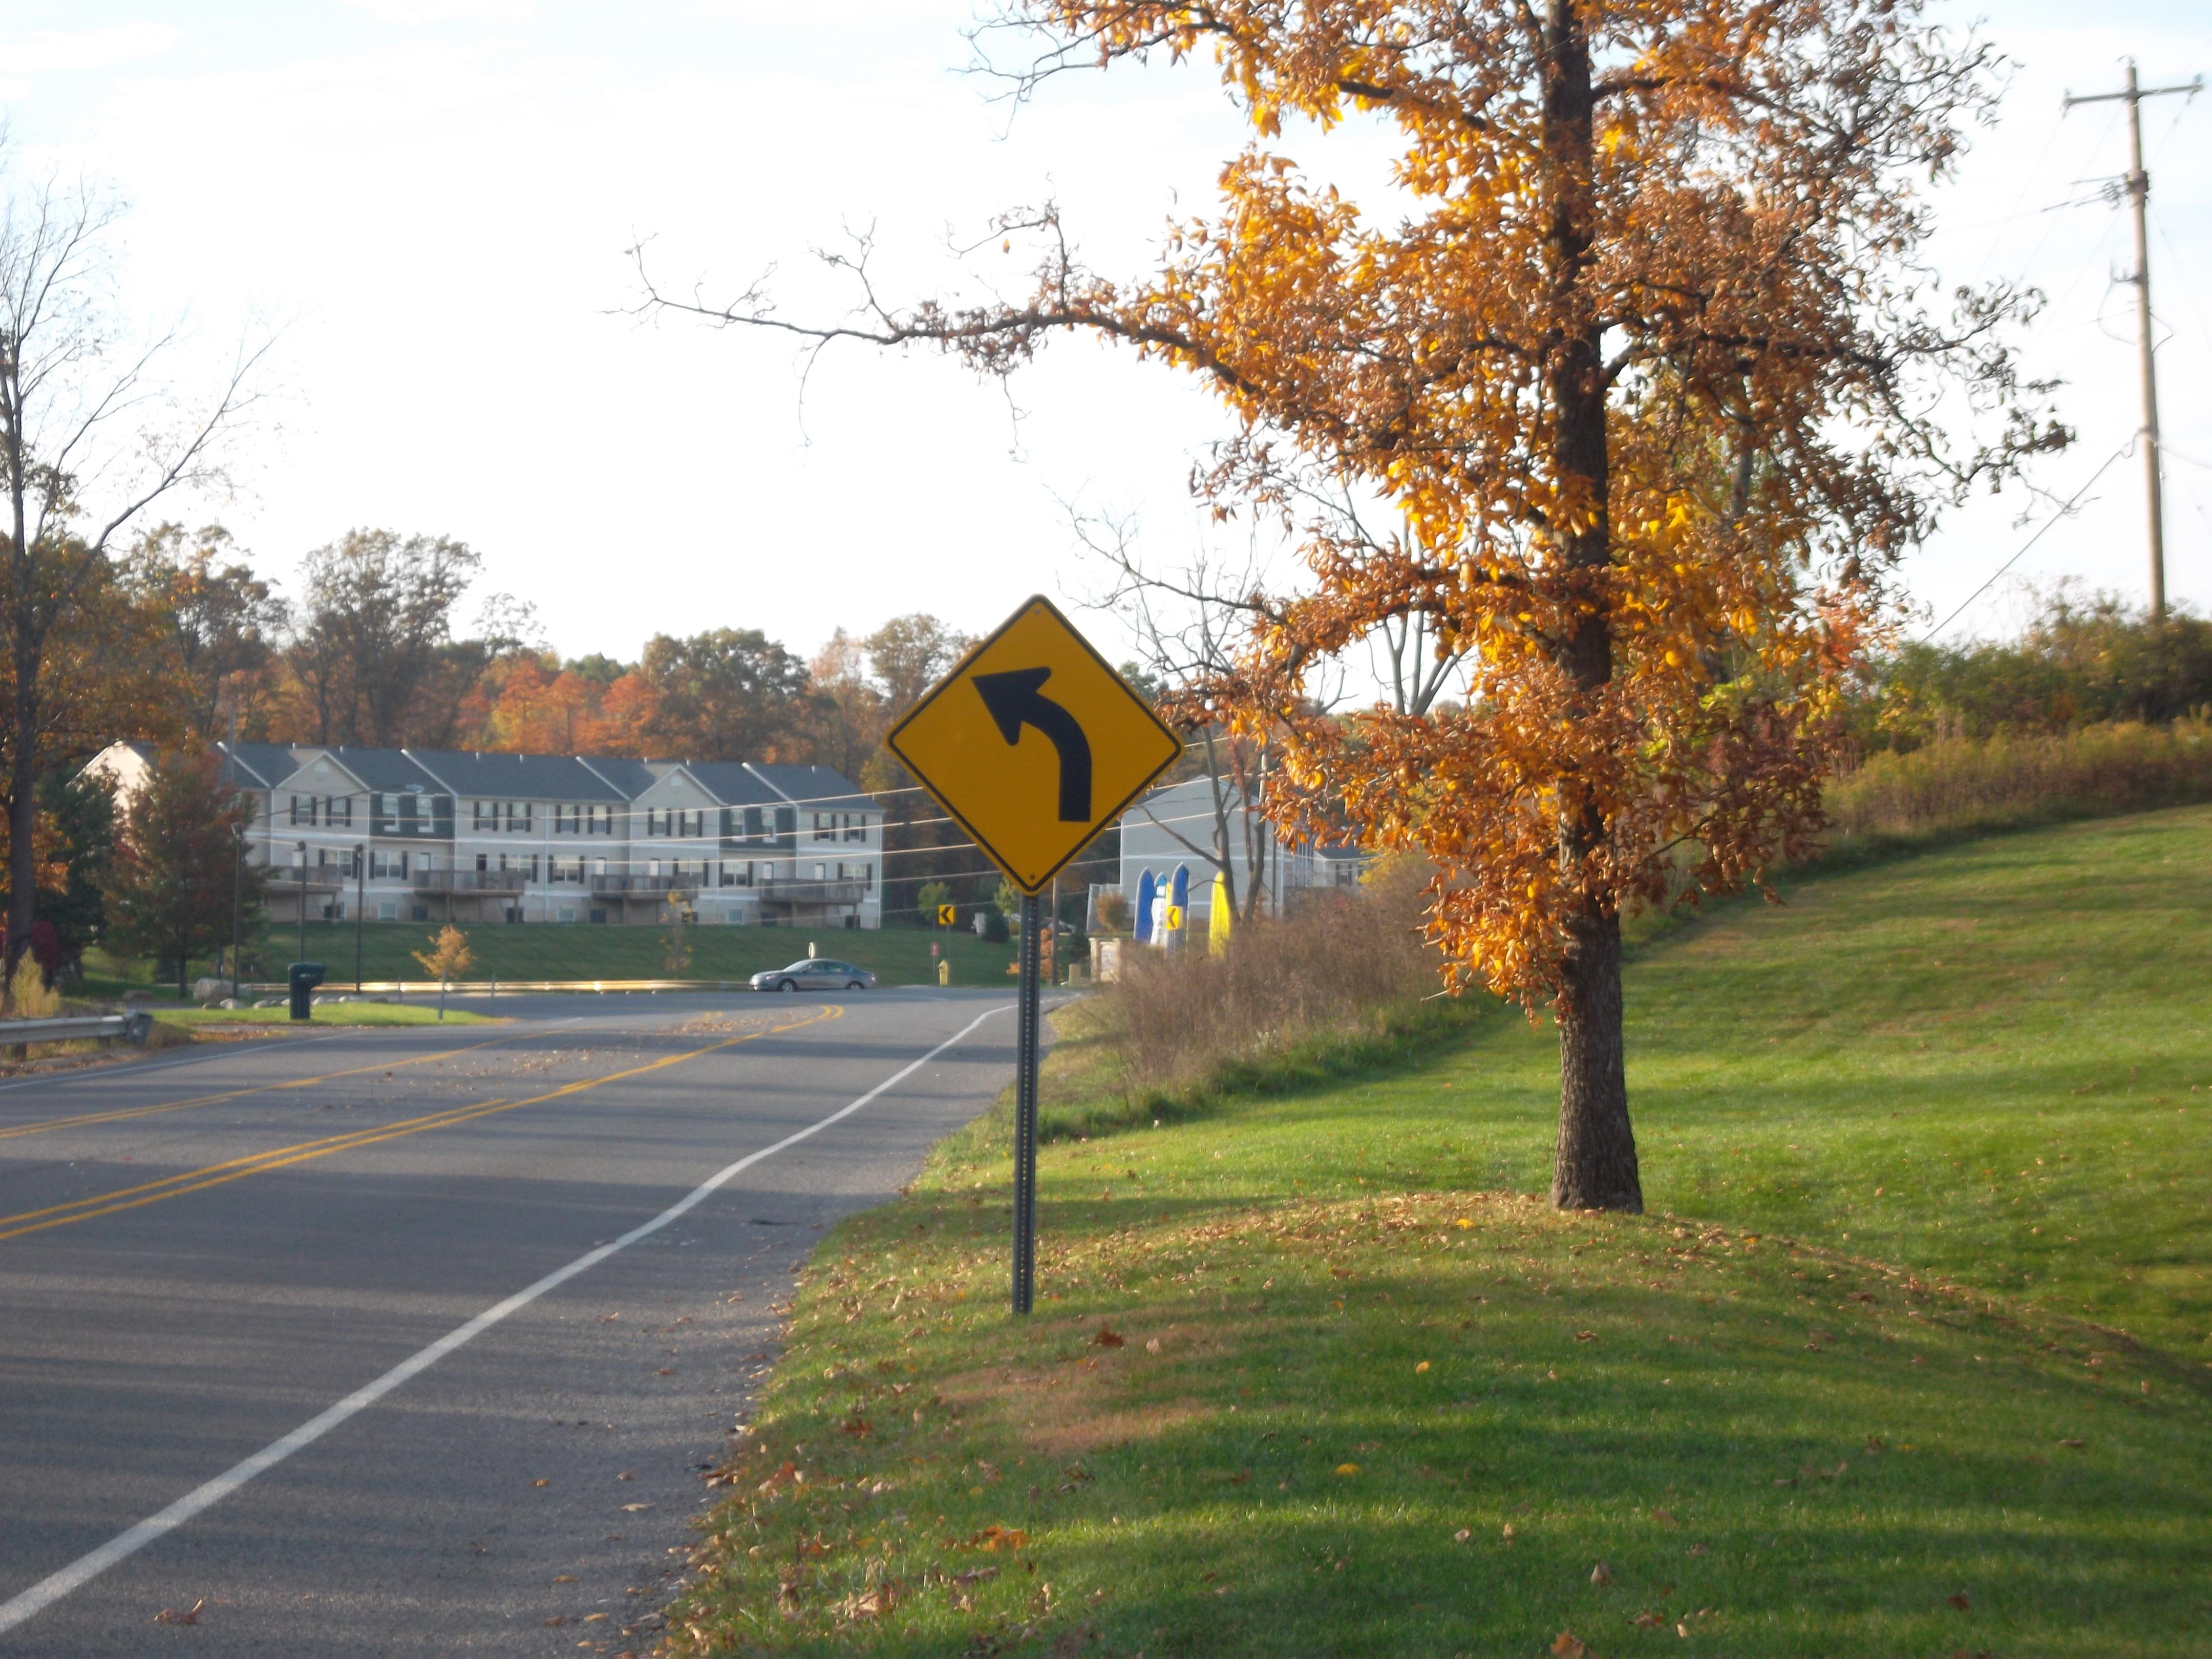warning: (888, 592, 1195, 892)
